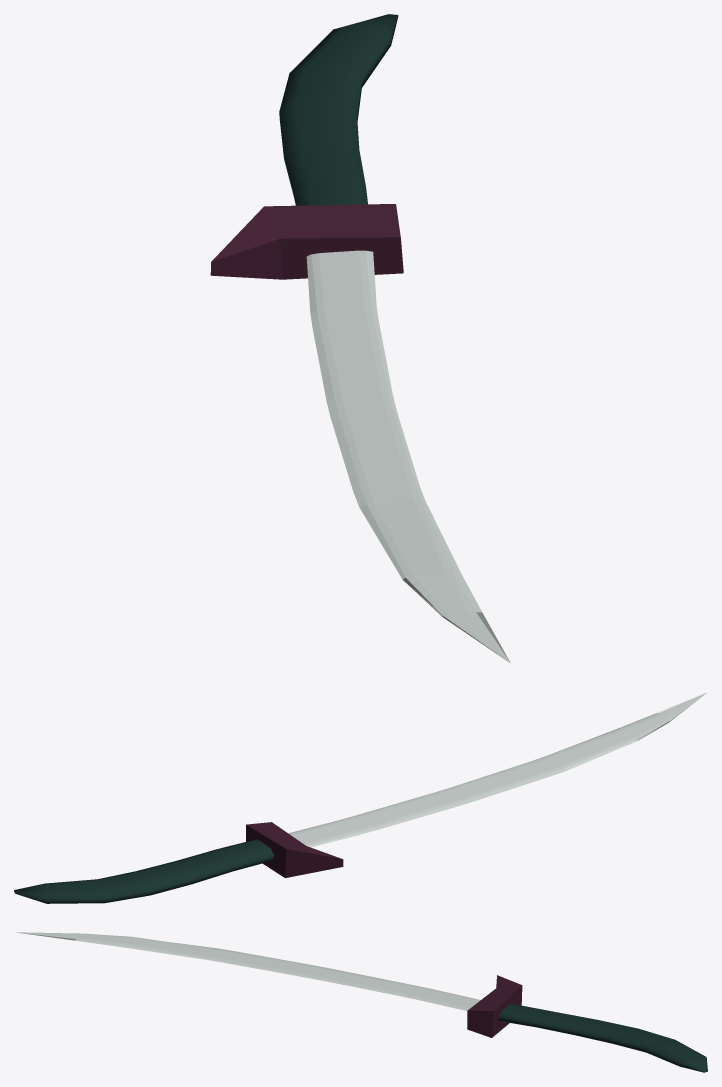
The model's file is flowerDagger.glb.
3 views of the same model, one above another, from view 1: azimuth 30°, elevation 25°; view 2: azimuth 150°, elevation 25°; view 3: azimuth 270°, elevation 25° (orthographic). The views are drawn at different scales.
Parts seen in each view (by area): view 1: bladeFlowerDagger, handleFlowerDagger, guardFlowerDagger; view 2: bladeFlowerDagger, handleFlowerDagger, guardFlowerDagger; view 3: bladeFlowerDagger, handleFlowerDagger, guardFlowerDagger.
Boxes of the visible parts, bbox=[...] form: bladeFlowerDagger: bbox=[306, 250, 510, 663]; handleFlowerDagger: bbox=[279, 14, 398, 205]; guardFlowerDagger: bbox=[210, 204, 403, 279]; bladeFlowerDagger: bbox=[288, 692, 707, 847]; handleFlowerDagger: bbox=[14, 839, 274, 903]; guardFlowerDagger: bbox=[246, 822, 343, 877]; bladeFlowerDagger: bbox=[16, 932, 480, 1010]; handleFlowerDagger: bbox=[498, 1003, 707, 1072]; guardFlowerDagger: bbox=[467, 975, 522, 1037].
Bounding box in the file's own units: 0.5415 × 0.049 × 1.13.
